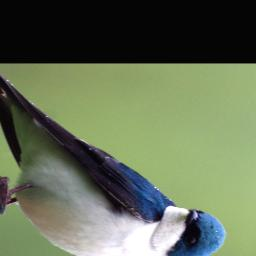Swallow: (0, 69, 256, 256)
